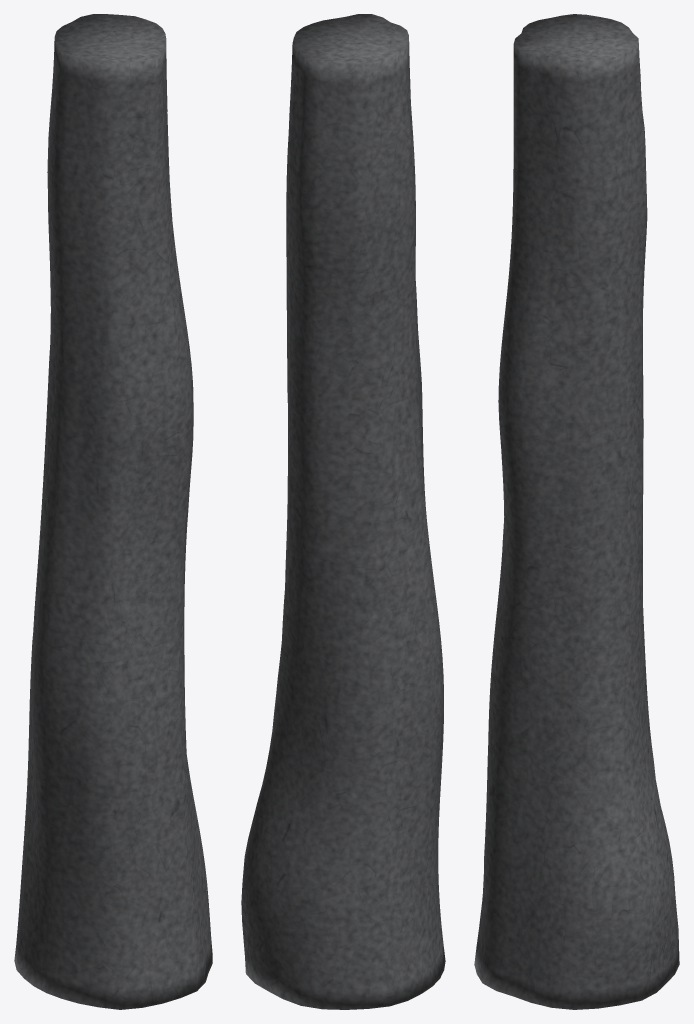
The model's file is rock_column.glb.
3 views of the same model, side by side, from view 1: azimuth 30°, elevation 25°; view 2: azimuth 150°, elevation 25°; view 3: azimuth 270°, elevation 25° (orthographic).
Parts seen in each view (by area): view 1: RockPillar; view 2: RockPillar; view 3: RockPillar.
Part boxes in pixels (box(x1,y1,x2,y2)): RockPillar: box(14, 14, 212, 1009); RockPillar: box(241, 14, 445, 1009); RockPillar: box(474, 14, 679, 1009).
Size of the model in its own units: 1.75 by 9 by 1.81.
1 material, 1 textured.
